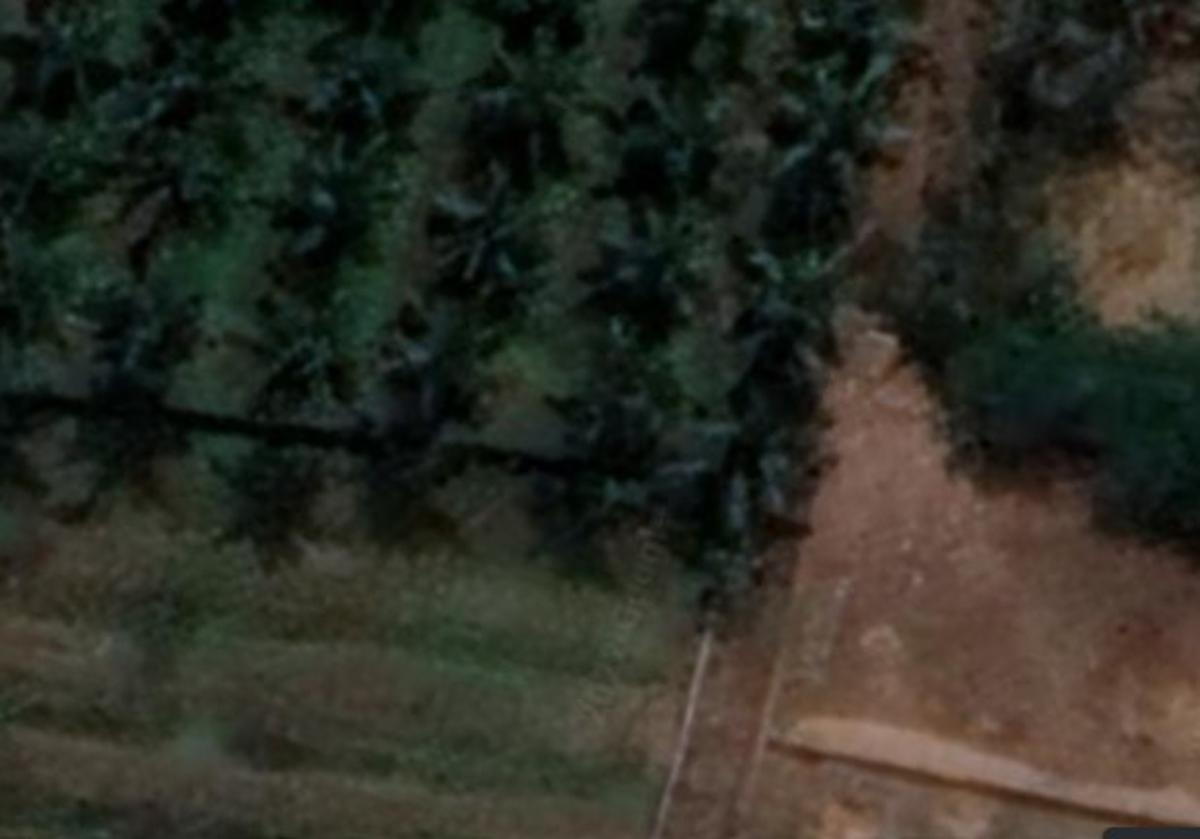coconut: (766, 48, 912, 186), (667, 402, 811, 524), (425, 167, 555, 295), (584, 205, 714, 328), (733, 238, 871, 353), (392, 293, 514, 411), (289, 139, 398, 260), (615, 69, 733, 178), (246, 297, 357, 403), (469, 48, 574, 153), (308, 46, 400, 135)
